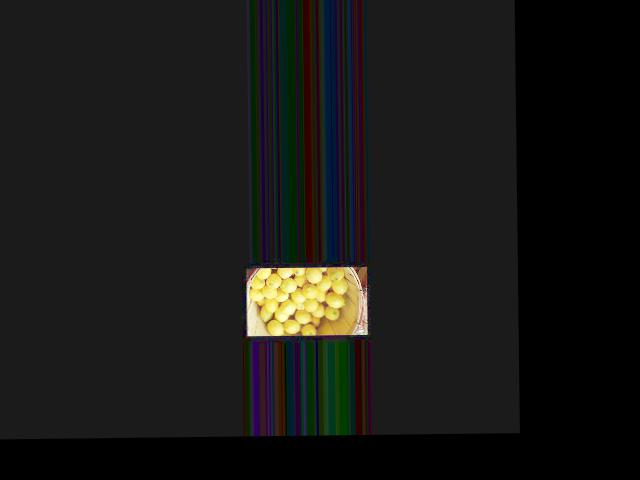lemon: (298, 321, 315, 334)
